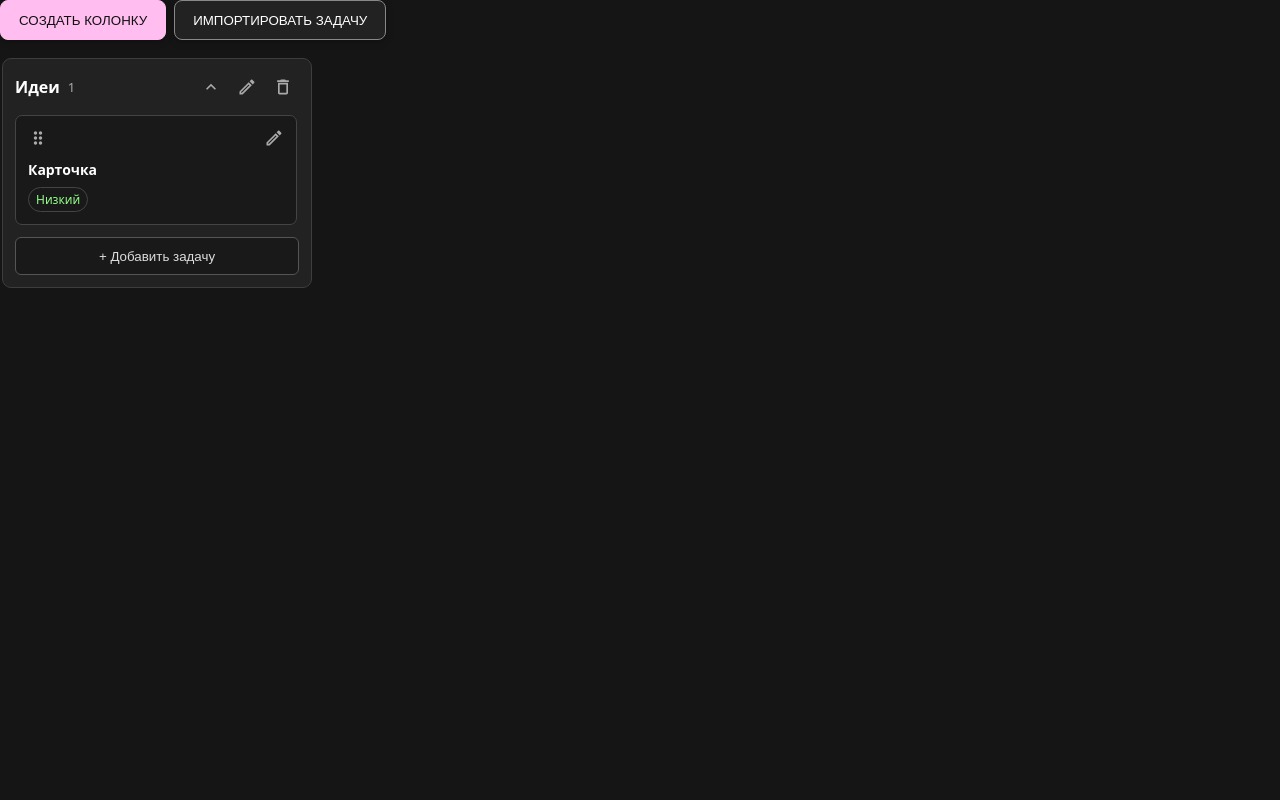
Test: TaskBoard › offers deleting tasks or detaching them from a non-empty column
The width and height of the screenshot is (1280, 800).
Click the button named "Удалить колонку Идеи": (283, 87) [267,71,299,103]
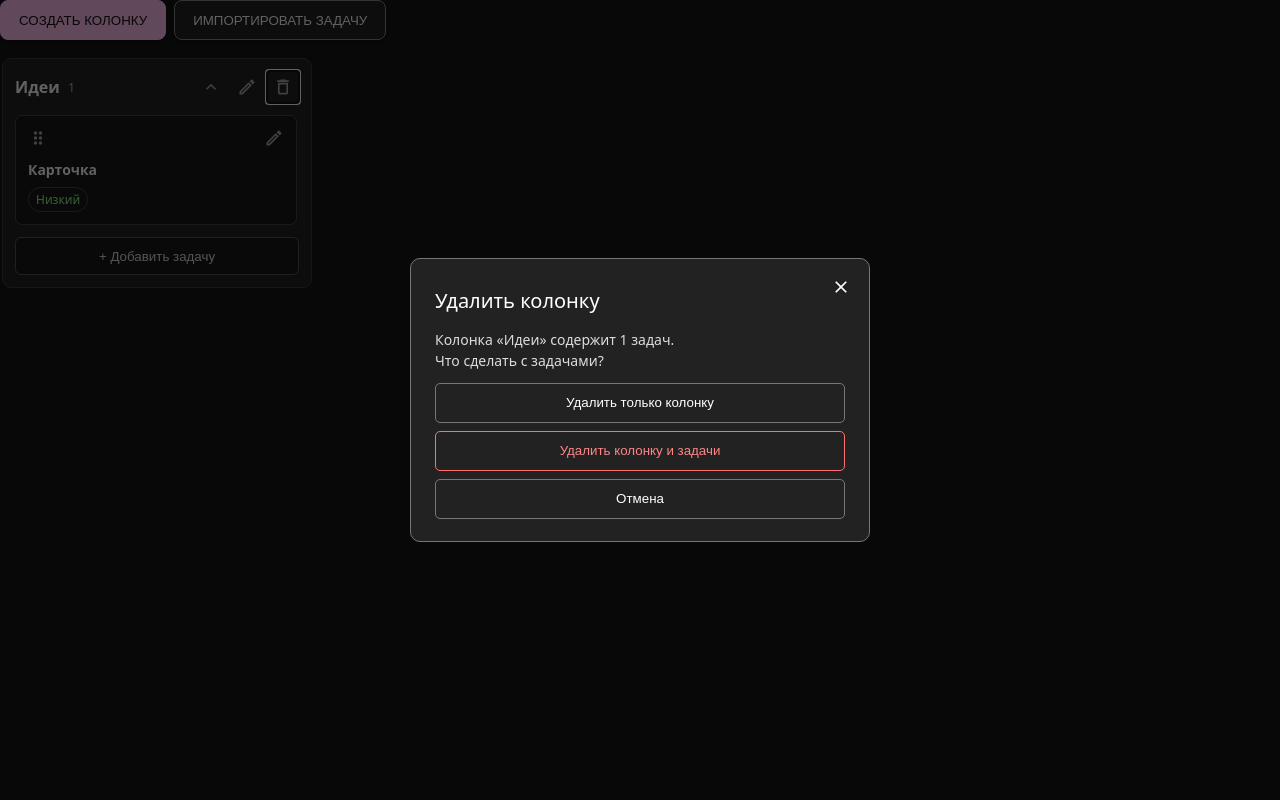
expect the button "Удалить только колонку" is shown: met, box [435,383,845,423]
expect the button "Удалить колонку и задачи" is shown: met, box [435,431,845,471]
